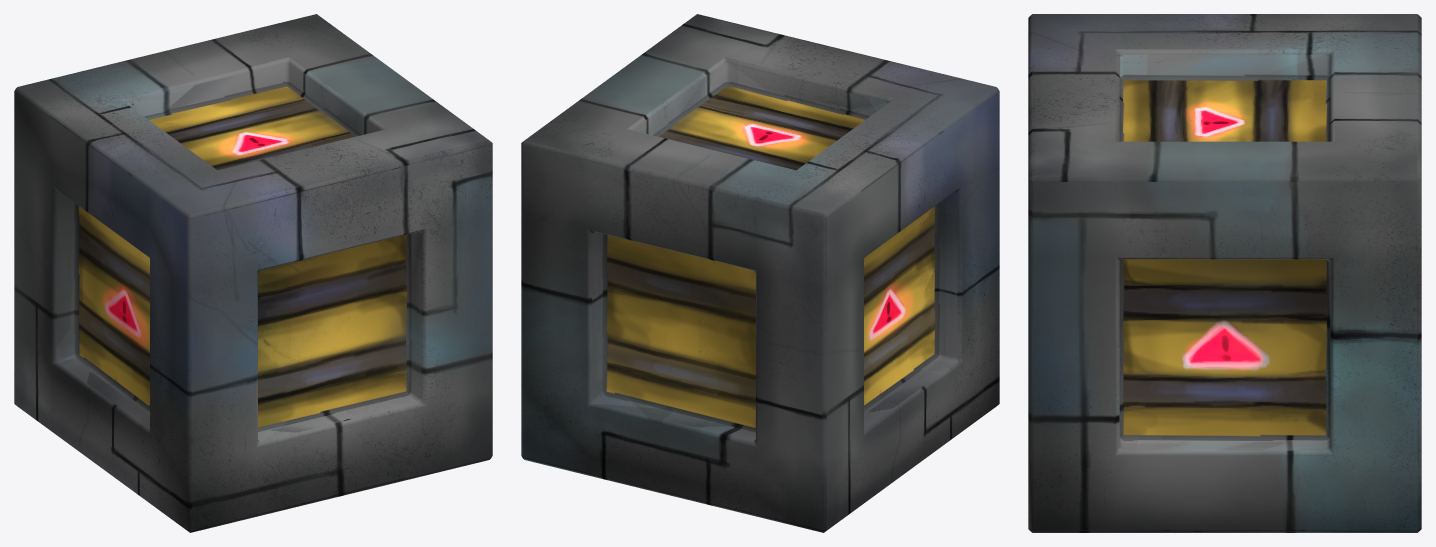
The model's file is cube03_modeling (1).fbx.
The picture shows the model from 3 angles, left to right: view 1: azimuth 30°, elevation 25°; view 2: azimuth 150°, elevation 25°; view 3: azimuth 270°, elevation 25°; orthographic projection. The views are drawn at different scales.
Parts seen in each view (by area): view 1: Cube; view 2: Cube; view 3: Cube.
Boxes of the visible parts, box(x1,y1,x2,y2) form: Cube: box(14, 14, 492, 532); Cube: box(521, 14, 999, 532); Cube: box(1028, 14, 1421, 532).
Size of the model in its own units: 200 by 200 by 200.
